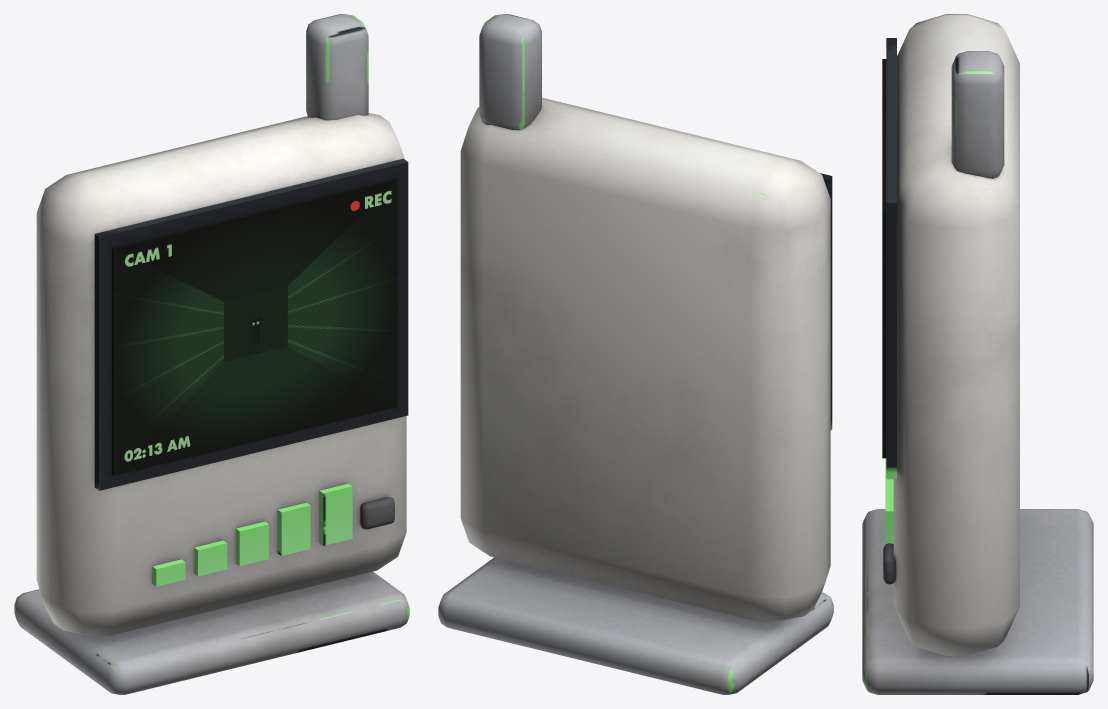
File: baby_monitor_screen.fbx
The picture shows the model from 3 angles, left to right: view 1: azimuth 30°, elevation 25°; view 2: azimuth 150°, elevation 25°; view 3: azimuth 270°, elevation 25°; orthographic projection. The views are drawn at different scales.
Visible parts, largest first — view 1: Body, Screen, Glow, Button; view 2: Body; view 3: Body, Screen, Glow, Button.
Part boxes in pixels (x1=…): Body: x1=14, y1=14, x2=409, y2=694; Screen: x1=112, y1=178, x2=397, y2=475; Glow: x1=152, y1=483, x2=352, y2=586; Button: x1=360, y1=497, x2=394, y2=529; Body: x1=438, y1=14, x2=833, y2=694; Body: x1=862, y1=14, x2=1093, y2=694; Screen: x1=882, y1=59, x2=886, y2=458; Glow: x1=885, y1=458, x2=893, y2=544; Button: x1=883, y1=543, x2=895, y2=584.
Bounding box in the file's own units: 0.42 × 0.66 × 0.22.
2 materials, 2 textured.
